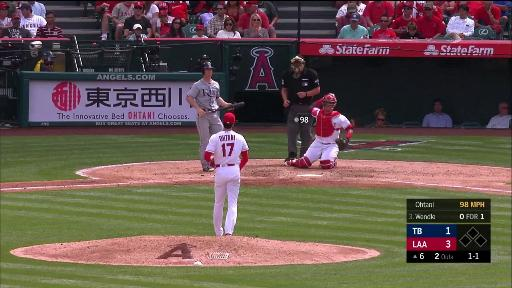pitcher: (203, 112, 249, 238)
